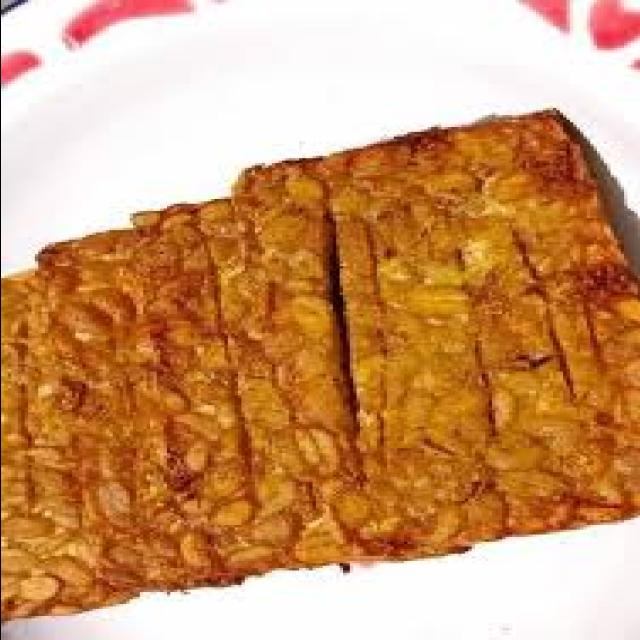tempe goreng: (246, 91, 640, 600), (56, 122, 361, 618)
